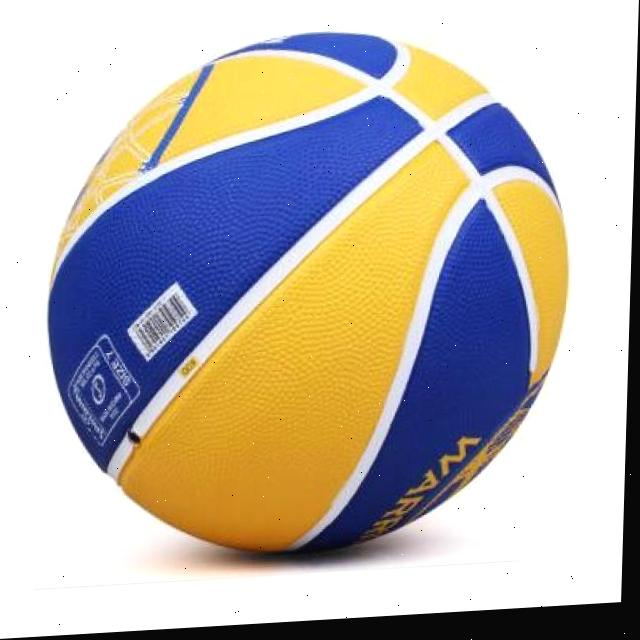Basketball: (35, 17, 576, 569)
